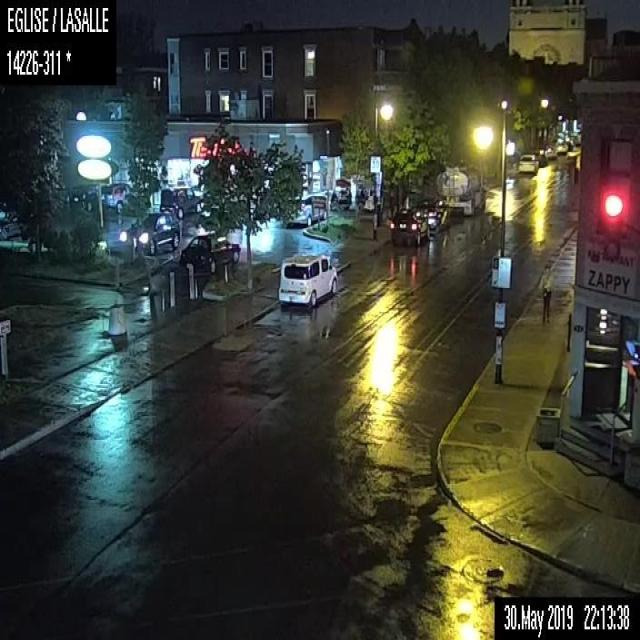pedestrian: (537, 266, 552, 322), (370, 209, 377, 240)
vehicle: (276, 252, 338, 307), (435, 158, 487, 216), (178, 230, 240, 274), (118, 211, 179, 254), (388, 206, 430, 247), (412, 198, 448, 238), (282, 192, 327, 223), (158, 184, 201, 216), (0, 202, 32, 239), (100, 182, 137, 212), (66, 183, 100, 210), (516, 152, 538, 173), (530, 147, 547, 166), (541, 142, 556, 158), (554, 138, 568, 154)
